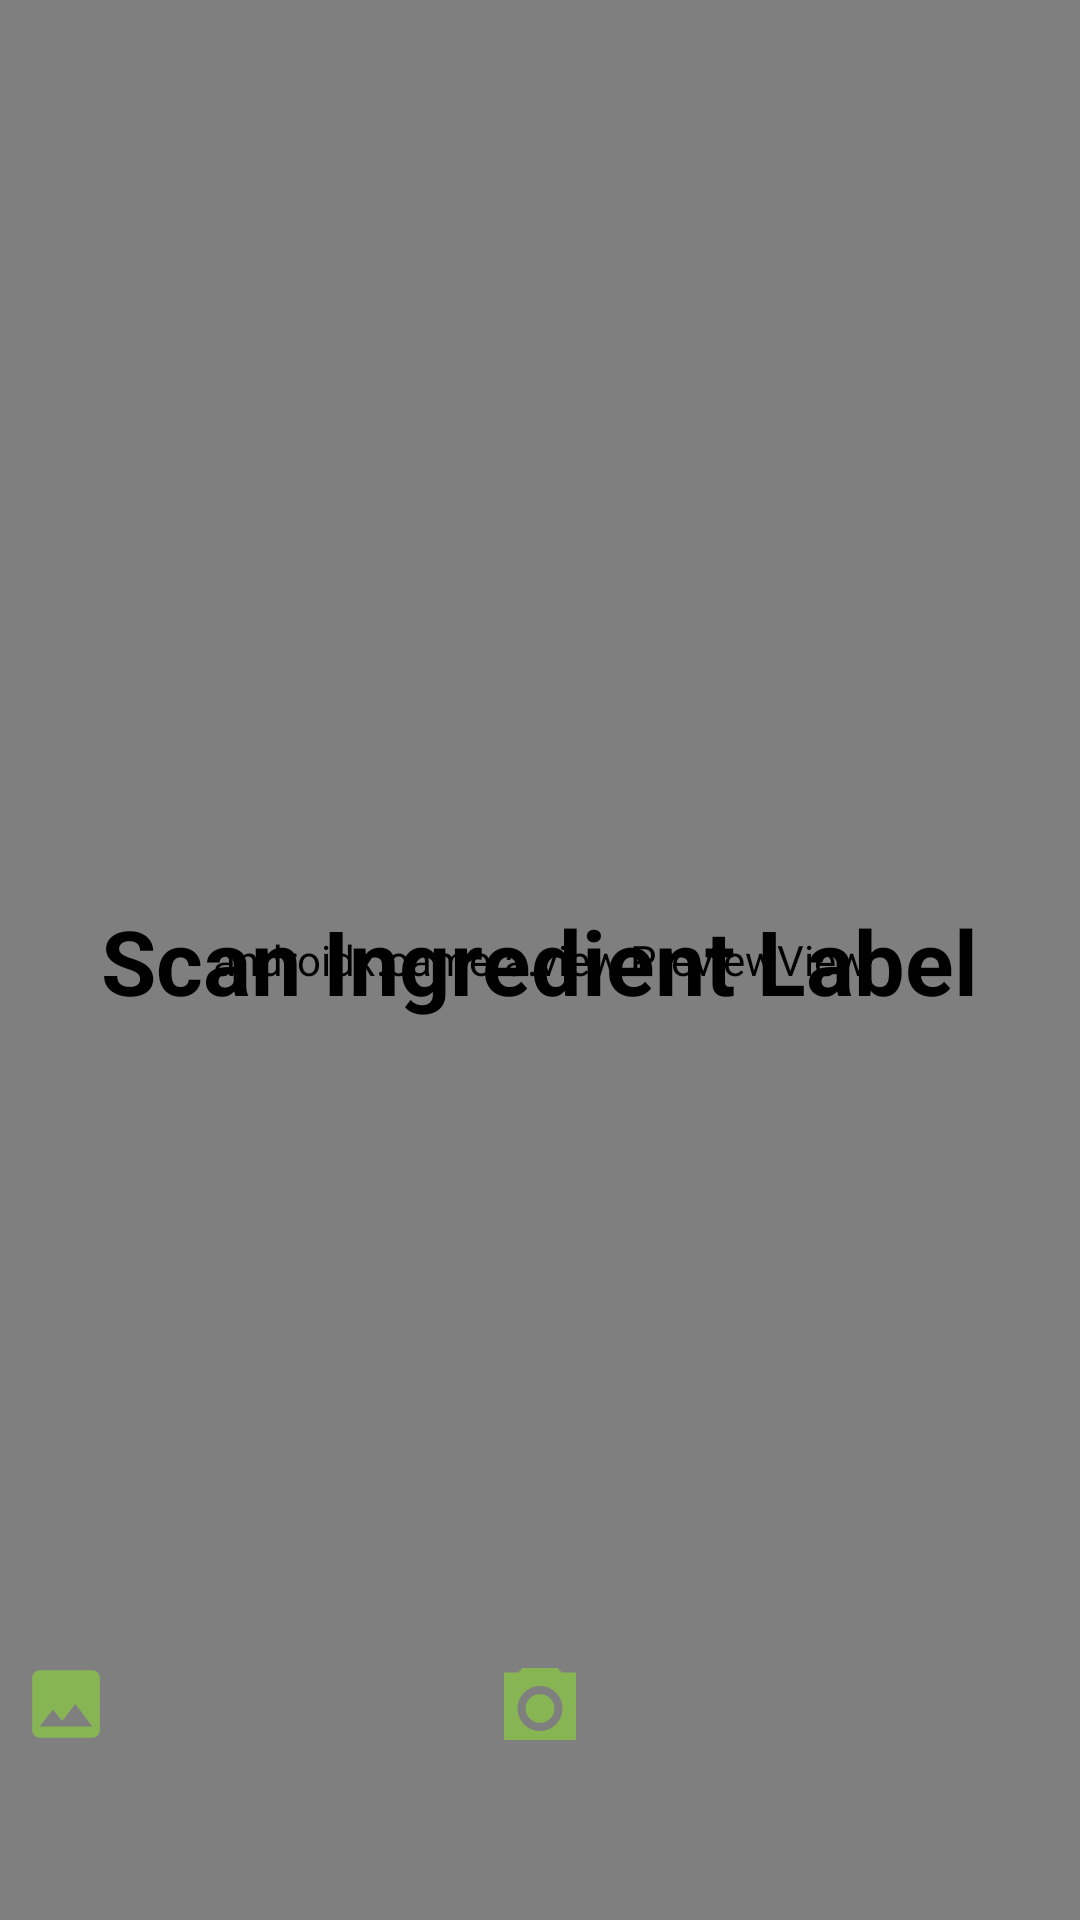

Named icons in this screenshot (1080 x 1920) and their bounding boxes, {"x1": x1, "y1": y1, "x2": x2, "y2": y2}:
camerabtn: {"x1": 504, "y1": 1668, "x2": 576, "y2": 1740}
gallerybtn: {"x1": 32, "y1": 1670, "x2": 100, "y2": 1738}
